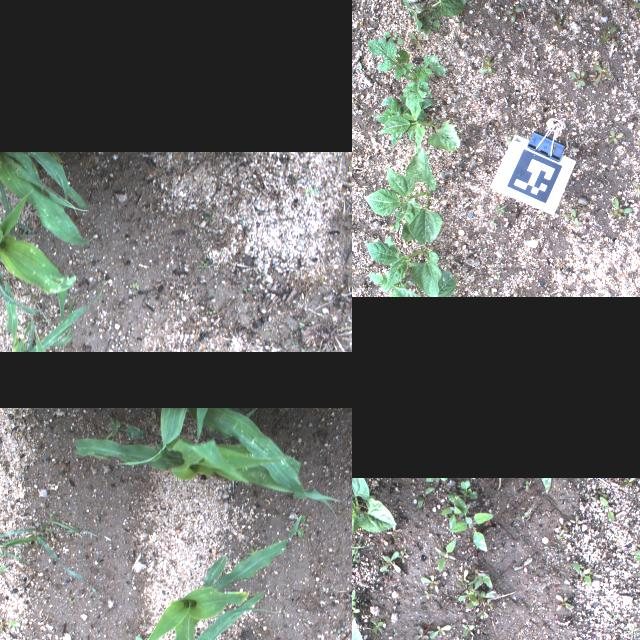crop: (114, 408, 340, 502), (72, 437, 336, 515), (134, 519, 297, 640), (0, 188, 75, 316), (0, 152, 93, 244), (0, 274, 105, 352), (362, 146, 442, 244), (367, 38, 445, 120), (364, 220, 442, 296), (372, 97, 460, 153), (178, 591, 278, 640), (352, 478, 397, 533), (400, 0, 465, 30), (388, 270, 456, 296), (368, 273, 408, 287)
weed: (0, 517, 100, 598), (449, 491, 493, 552), (570, 562, 600, 586), (436, 540, 456, 572), (447, 480, 477, 500), (590, 60, 610, 86), (440, 506, 460, 532), (423, 6, 441, 34), (476, 590, 494, 618), (611, 197, 633, 219), (379, 551, 401, 573), (458, 586, 480, 608), (598, 24, 622, 44), (598, 495, 614, 523), (468, 573, 492, 589), (426, 625, 452, 639), (476, 56, 496, 74), (105, 418, 122, 438), (568, 71, 586, 89), (513, 556, 531, 574), (418, 488, 434, 507), (124, 424, 144, 438), (419, 574, 439, 588), (506, 5, 520, 23), (382, 32, 403, 44), (515, 506, 533, 520), (408, 32, 422, 48), (607, 130, 623, 144), (555, 594, 571, 608), (632, 539, 640, 564), (413, 627, 428, 640), (461, 623, 474, 637), (297, 515, 305, 537), (457, 570, 468, 586), (414, 108, 428, 120), (370, 620, 382, 634), (570, 516, 582, 530), (557, 518, 569, 532), (570, 208, 578, 228), (551, 15, 561, 30), (396, 550, 408, 562), (304, 186, 318, 196), (419, 590, 436, 598), (632, 181, 640, 196), (541, 478, 551, 490), (585, 491, 595, 503), (633, 0, 640, 17), (620, 478, 634, 486), (562, 213, 574, 221), (424, 478, 448, 482), (352, 589, 355, 617), (8, 621, 20, 627), (494, 205, 504, 212), (131, 282, 139, 290), (352, 608, 359, 616), (466, 635, 477, 640), (0, 566, 5, 576), (504, 136, 512, 142), (524, 479, 528, 489), (291, 340, 297, 346), (352, 221, 355, 229), (496, 275, 500, 281), (301, 349, 307, 352)
